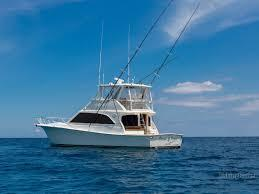fishing boat: (30, 18, 186, 150)
